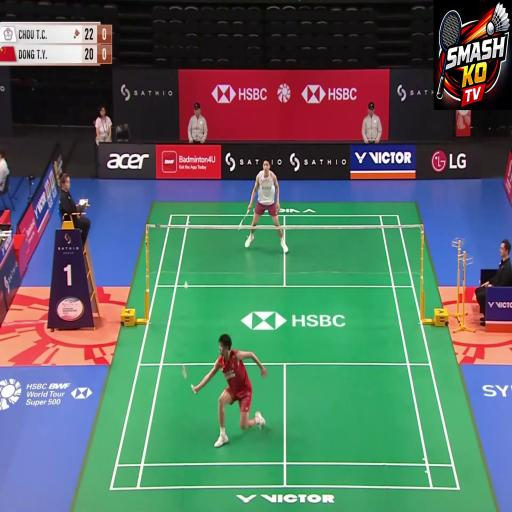player: (196, 321, 258, 478), (247, 160, 292, 264)
